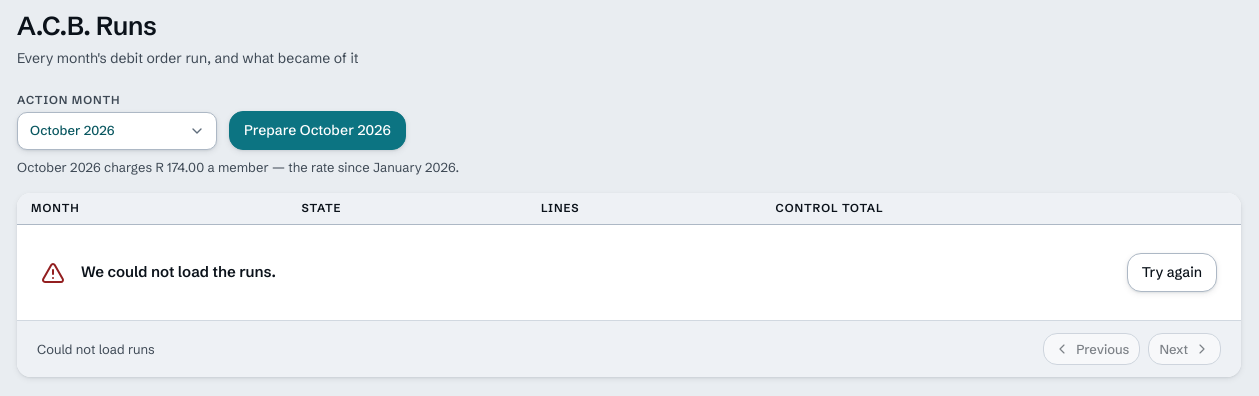
the list › a failed list says so, and its retry goes BACK TO LOADING before the rows arrive
Expected: the text "We could not load the runs." is shown, [81,262,276,281]
Click the button "Try again". click: (1172, 273)
box: [1127,253,1217,292]
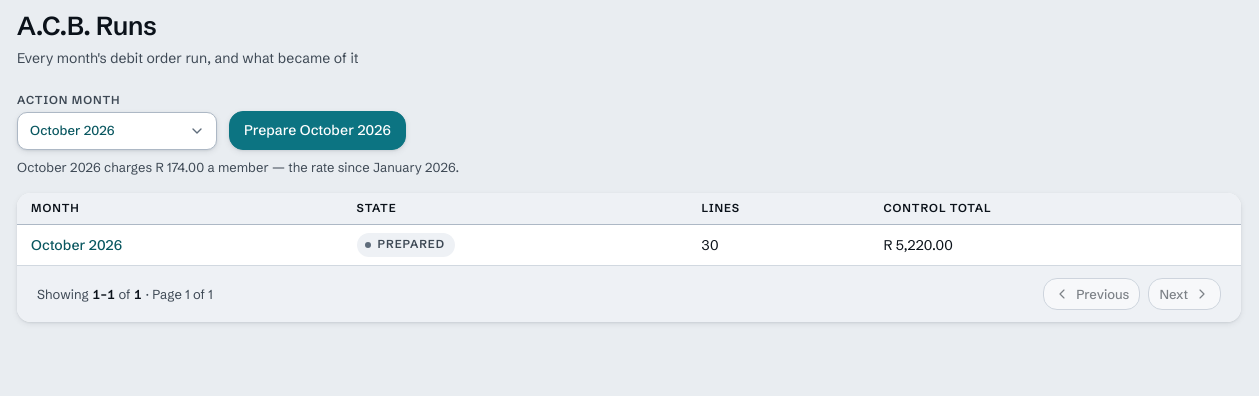
Expected: the text "Loading runs" is shown, [37,285,213,303]
Expected: the text "We could not load the runs." is gone
Expected: the button with aria-label "Open the October 2026 run" is shown, [31,235,122,256]
